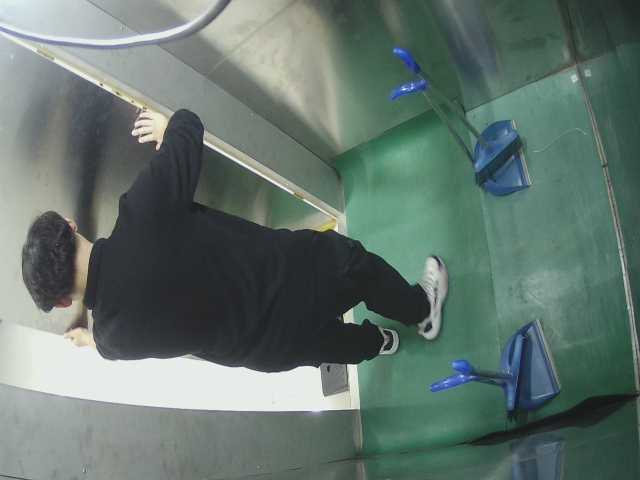broom: (368, 41, 538, 195), (414, 317, 572, 431)
person: (1, 135, 465, 349)
